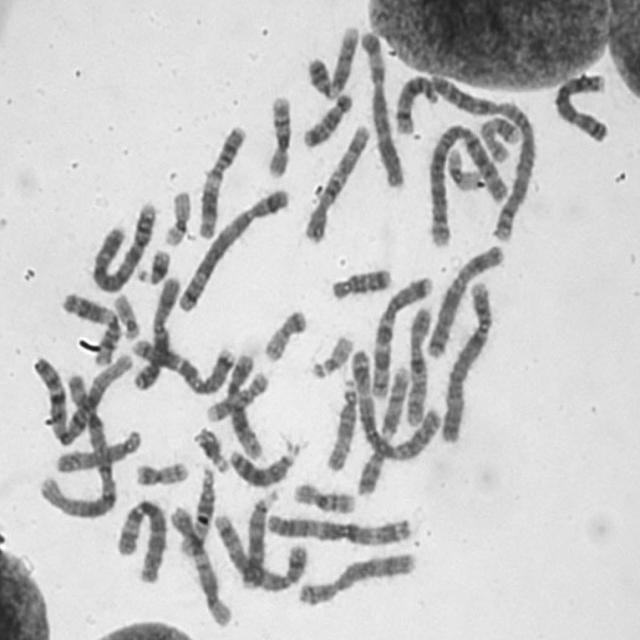A1: (32, 350, 121, 524), (27, 346, 134, 445)
A2: (422, 66, 540, 247), (421, 115, 519, 249)
A3: (346, 343, 447, 464), (259, 505, 414, 547)
B4: (434, 273, 496, 445), (86, 193, 160, 294)
B5: (171, 180, 292, 314), (208, 507, 310, 592)
C10: (298, 116, 373, 245), (401, 297, 436, 429)
C11: (192, 117, 250, 240), (56, 285, 123, 366)
C12: (165, 499, 234, 629), (222, 347, 266, 461)
C6: (355, 23, 408, 189), (110, 491, 168, 585)
C7: (366, 266, 436, 402), (127, 330, 238, 397)
C8: (292, 544, 419, 609), (549, 66, 612, 145)
C9: (352, 360, 412, 497), (302, 18, 362, 101)
D13: (236, 481, 280, 591), (223, 438, 299, 488)
D14: (175, 458, 217, 558), (389, 67, 441, 136)
D15: (48, 422, 144, 474), (320, 372, 360, 472)
E16: (260, 86, 294, 179), (288, 475, 358, 516)
E17: (202, 364, 272, 423), (474, 110, 521, 164)
E18: (297, 85, 355, 150), (325, 259, 394, 301)
F19: (159, 182, 194, 248), (442, 142, 486, 194)
F20: (258, 301, 310, 364), (130, 453, 192, 488)
G21: (189, 418, 232, 474), (129, 240, 173, 286)
G22: (304, 326, 356, 379), (108, 287, 143, 341)
X: (422, 237, 509, 361), (127, 268, 184, 392)
